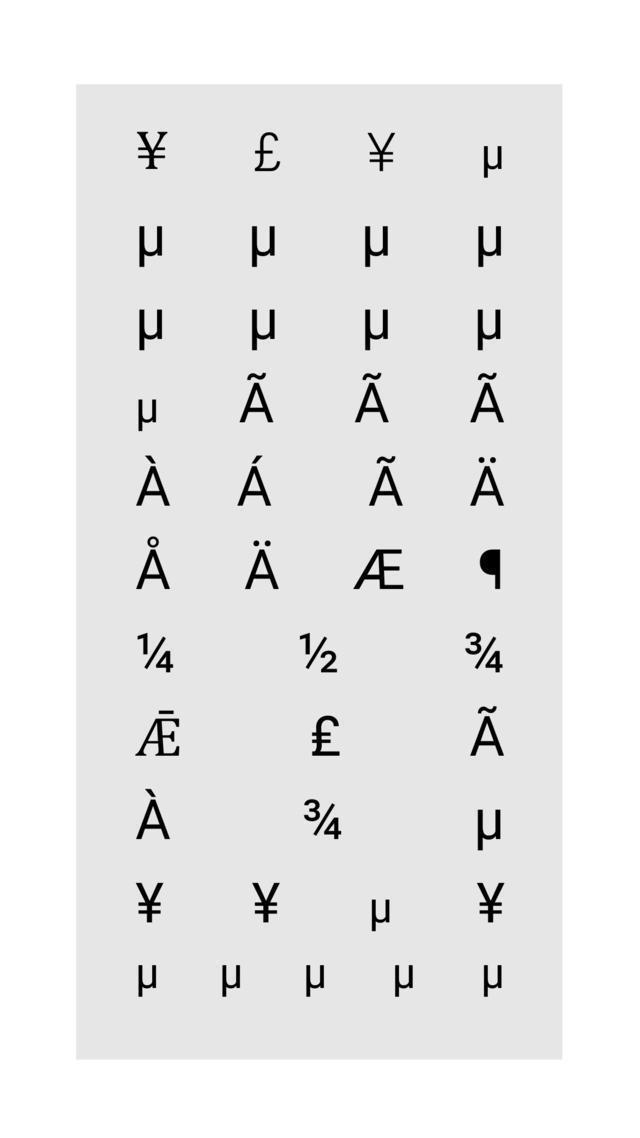ASCII: (461, 121, 518, 186), (352, 539, 408, 601), (133, 702, 185, 766), (134, 528, 175, 602), (240, 530, 282, 602), (466, 698, 508, 770), (295, 623, 342, 686), (467, 448, 508, 520), (299, 792, 347, 852), (350, 364, 392, 432), (466, 366, 508, 434), (134, 780, 175, 848), (236, 364, 277, 432), (132, 117, 174, 183), (366, 448, 406, 517), (460, 625, 508, 682), (134, 450, 174, 516), (236, 448, 274, 516), (362, 122, 402, 182), (136, 626, 178, 682), (249, 871, 286, 932), (308, 710, 346, 769), (249, 124, 287, 182), (358, 218, 396, 275), (245, 217, 282, 275), (131, 874, 168, 930), (134, 217, 170, 274), (472, 219, 508, 275), (471, 800, 506, 857), (134, 302, 170, 357), (473, 876, 508, 930), (246, 300, 281, 353), (472, 304, 506, 357), (358, 302, 394, 352), (477, 541, 508, 595), (128, 392, 164, 438), (300, 953, 332, 1004), (476, 955, 508, 1005), (365, 887, 397, 937), (130, 955, 162, 1002), (391, 956, 422, 1004), (218, 954, 248, 1003)
